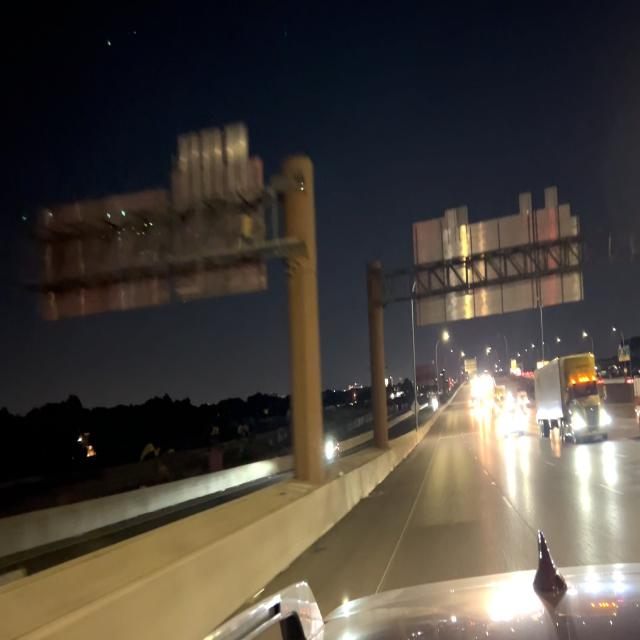back-of-sign: (35, 119, 269, 321), (415, 188, 582, 324)
